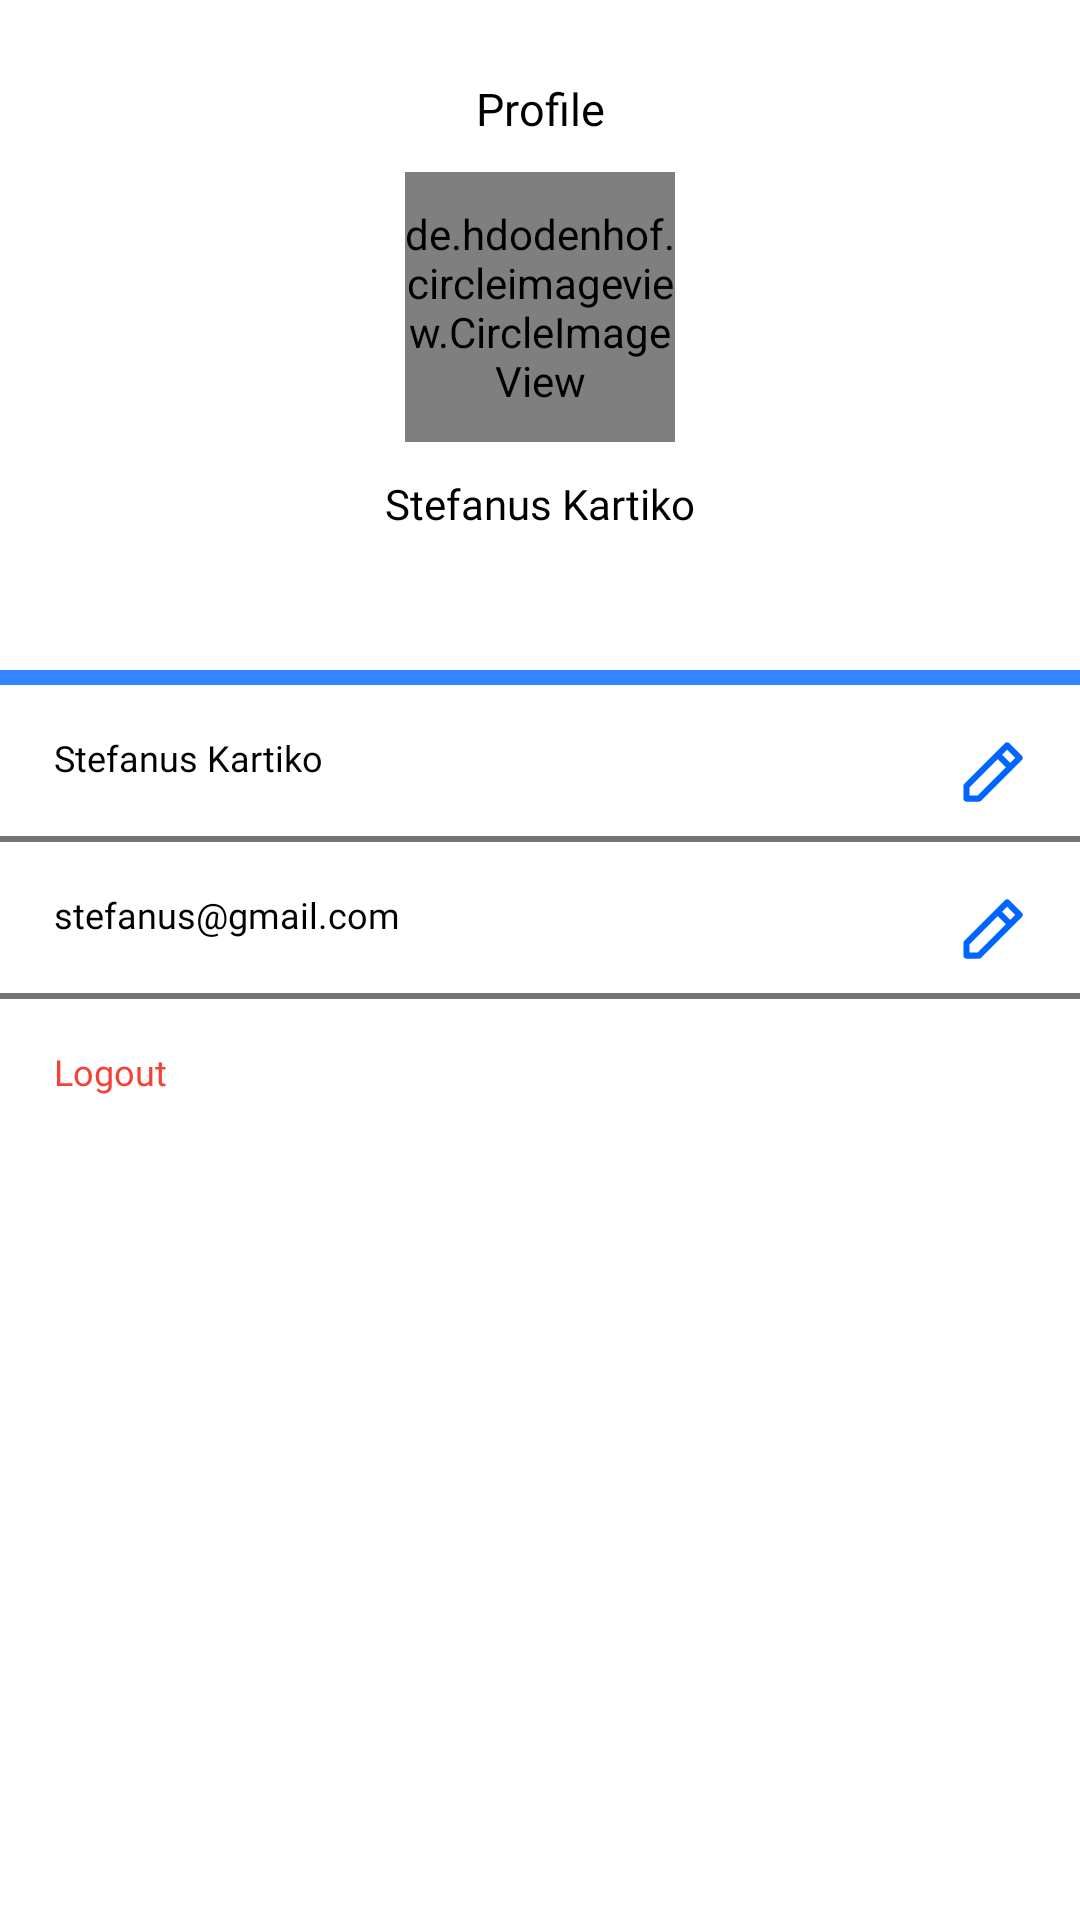

Point at icon controls on the screen. Image size 1080x1920, points as (x,y).
edit: (993,772), (993,929)
